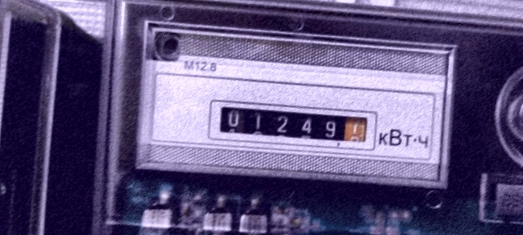0: (225, 106, 240, 128)
1: (250, 109, 262, 129)
2: (274, 112, 289, 134)
4: (299, 114, 312, 134)
7: (347, 115, 361, 135)
9: (321, 117, 337, 139)
screen: (198, 90, 377, 156)
